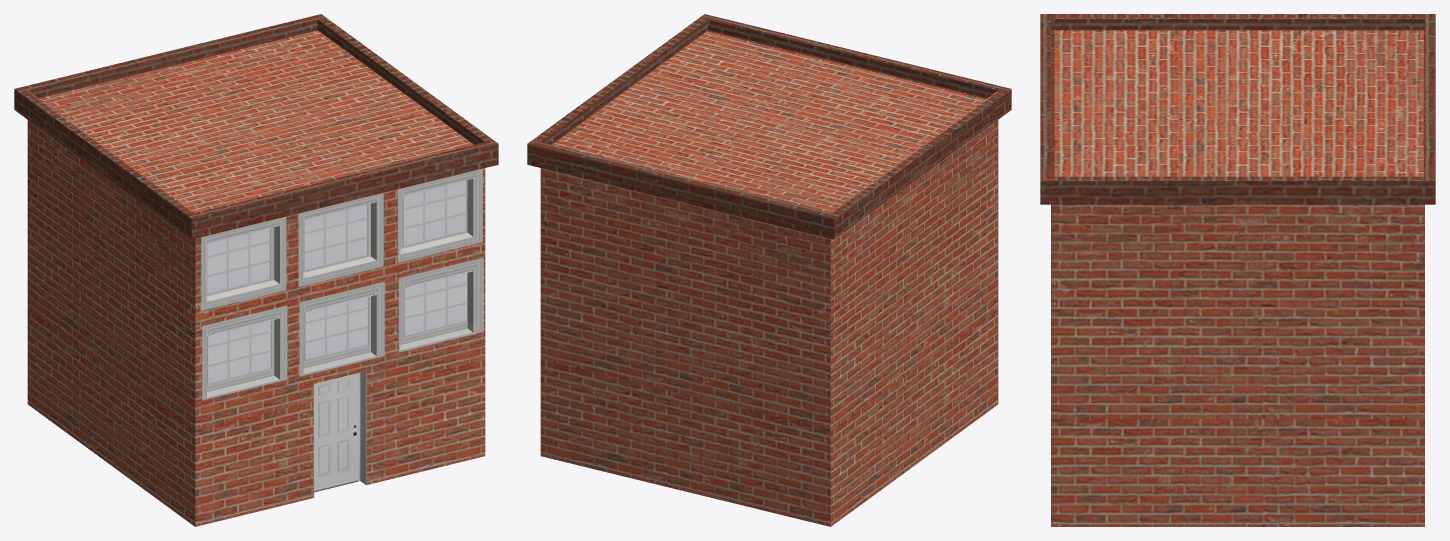
Rendered from building_02.fbx.
The picture shows the model from 3 angles, left to right: view 1: azimuth 30°, elevation 25°; view 2: azimuth 150°, elevation 25°; view 3: azimuth 270°, elevation 25°; orthographic projection. The views are drawn at different scales.
Parts seen in each view (by area): view 1: building02; view 2: building02; view 3: building02.
Boxes of the visible parts, x1,y1,x2,y2 form: building02: (14,14,498,526); building02: (527,14,1011,526); building02: (1040,14,1435,526).
Size of the model in its own units: 6.45 by 6.31 by 6.45.
